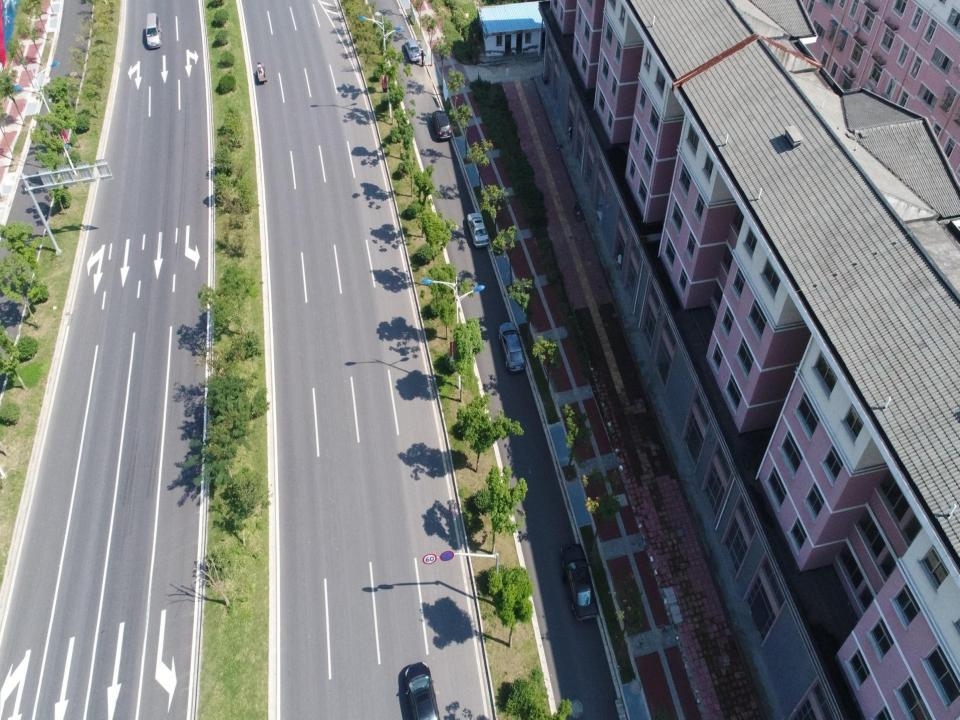car: (560, 543, 598, 621), (404, 662, 439, 720), (498, 322, 526, 373), (466, 212, 489, 248), (431, 109, 452, 142)
van: (146, 12, 161, 49)
